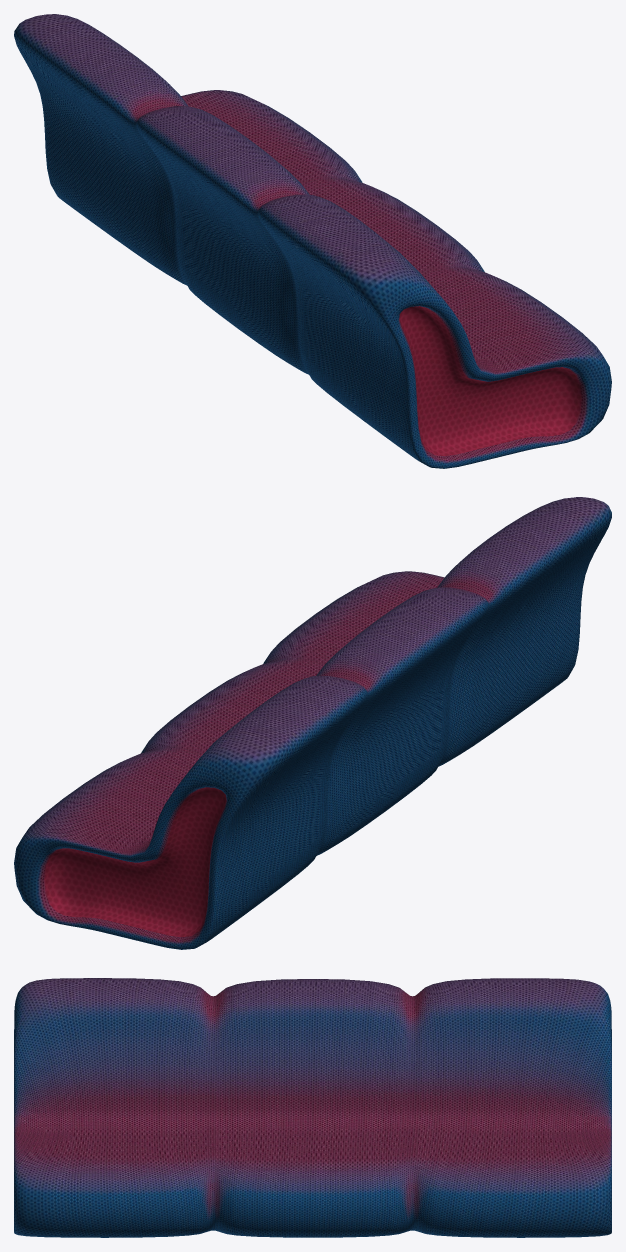
Rendered from couch.glb.
The picture shows the model from 3 angles, top to bottom: view 1: azimuth 30°, elevation 25°; view 2: azimuth 150°, elevation 25°; view 3: azimuth 270°, elevation 25°; orthographic projection. The views are drawn at different scales.
Parts seen in each view (by area): view 1: BestSofa; view 2: BestSofa; view 3: BestSofa.
Boxes of the visible parts, <box> form: BestSofa: <box>14,14,611,468</box>; BestSofa: <box>14,497,611,949</box>; BestSofa: <box>14,978,611,1237</box>.
Size of the model in its own units: 0.8358 by 0.6417 by 2.
Materials: 1 (1 with a texture image).
